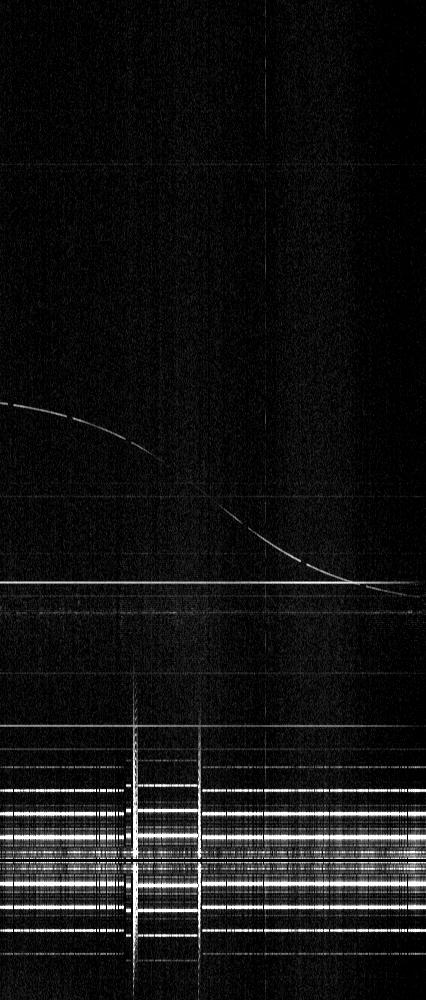signal: (0, 0, 425, 999)
